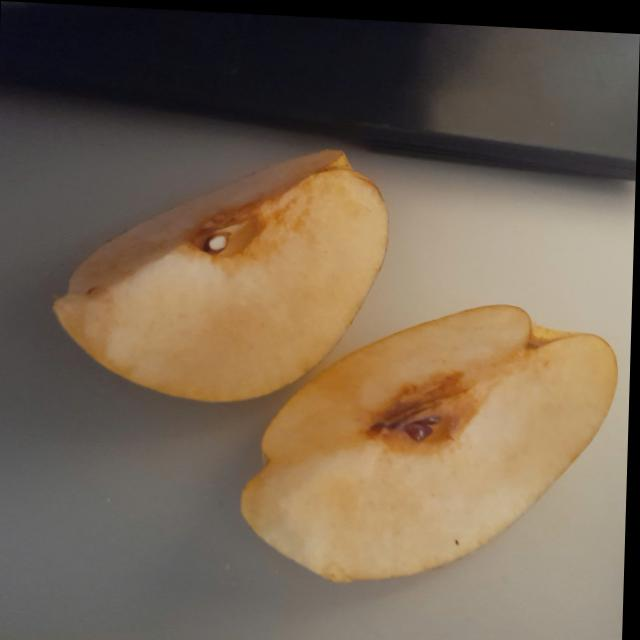Le: (38, 130, 627, 609)
